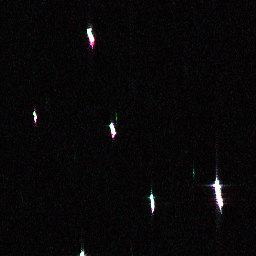ship: (210, 177, 226, 208), (84, 27, 97, 45), (107, 121, 118, 138), (147, 193, 156, 211), (31, 110, 38, 121)
